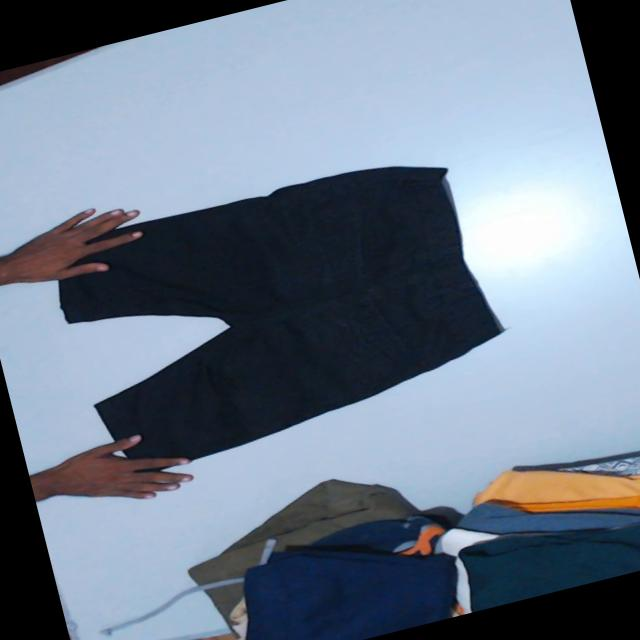new-garment: (59, 166, 500, 458)
